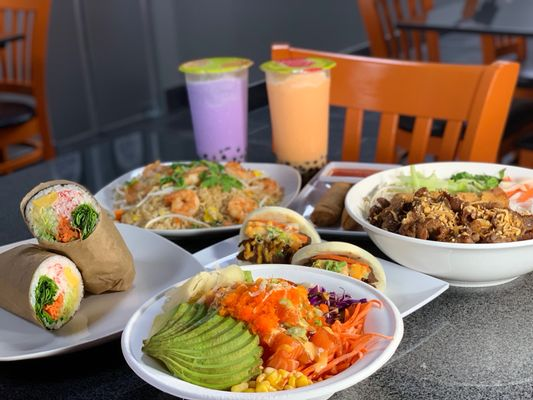pizza: (260, 57, 336, 169), (178, 56, 253, 164)
soup: (19, 179, 136, 296)
sushi: (121, 261, 403, 400), (344, 161, 533, 286), (237, 206, 323, 265), (291, 241, 387, 293)
